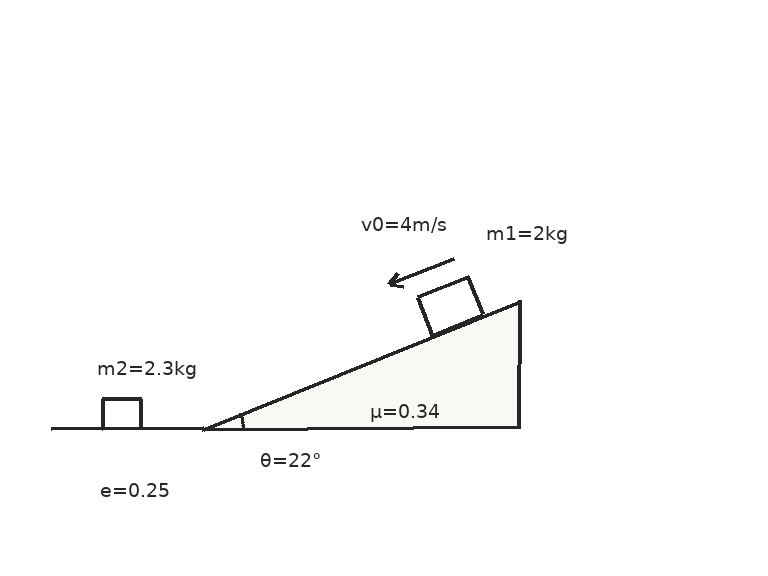block: (415, 275, 486, 337), (100, 397, 144, 430)
ramp: (201, 299, 520, 430)
